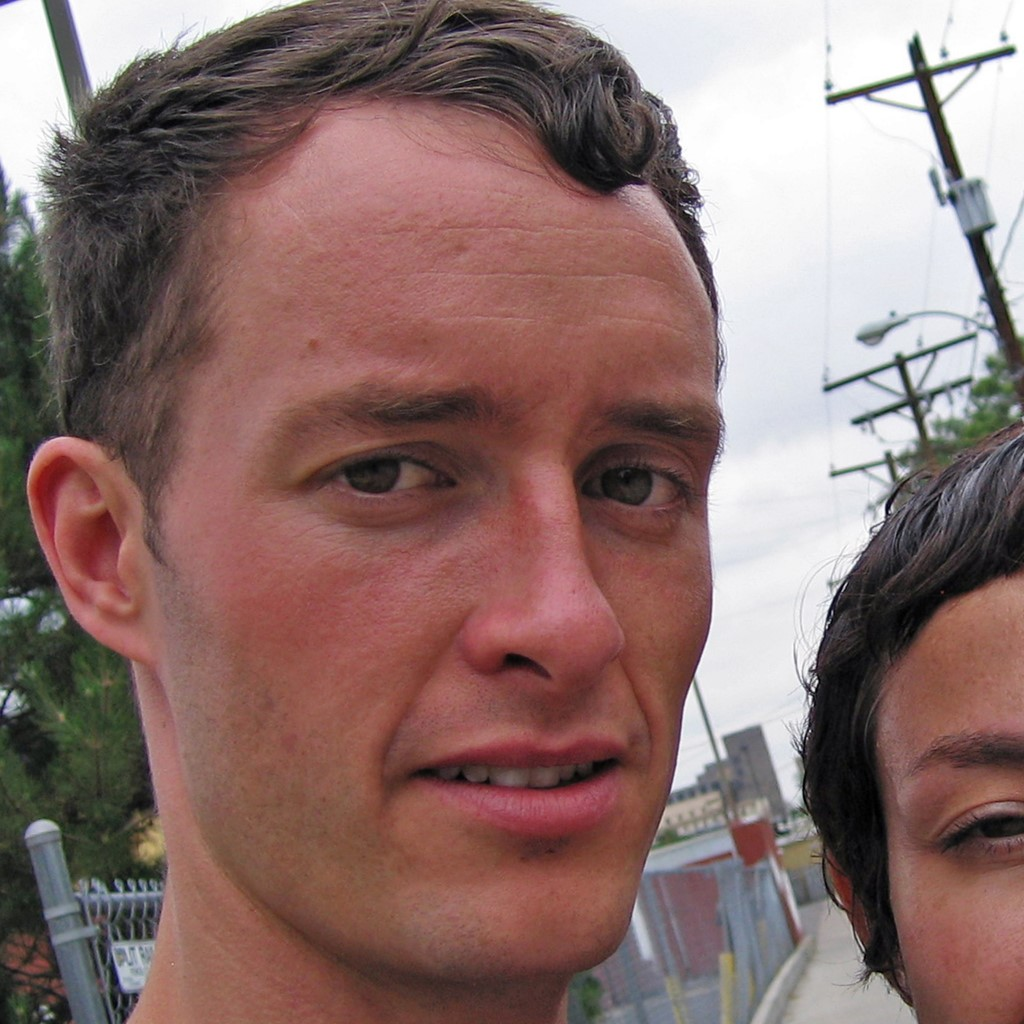sin_mascara: (72, 75, 724, 993)
